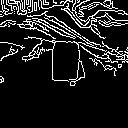cube: (41, 36, 88, 88)
